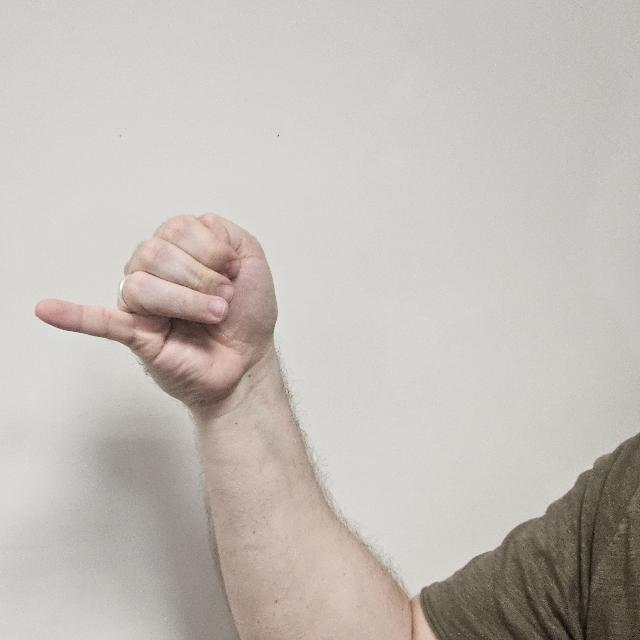Esquerda: (35, 184, 275, 408)
